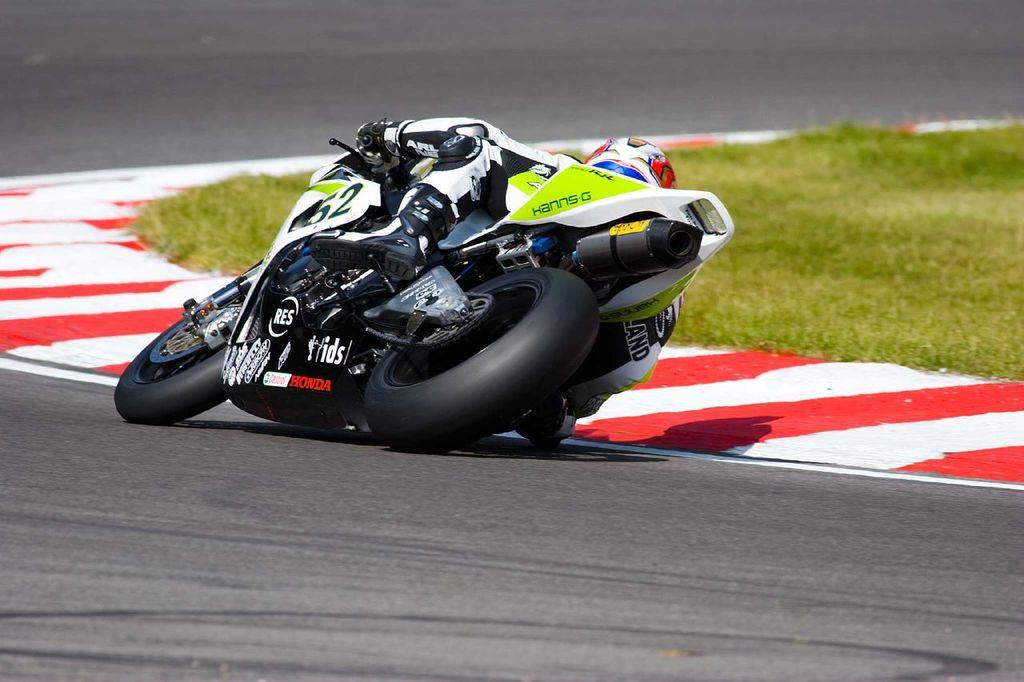helmet: (583, 136, 679, 227)
